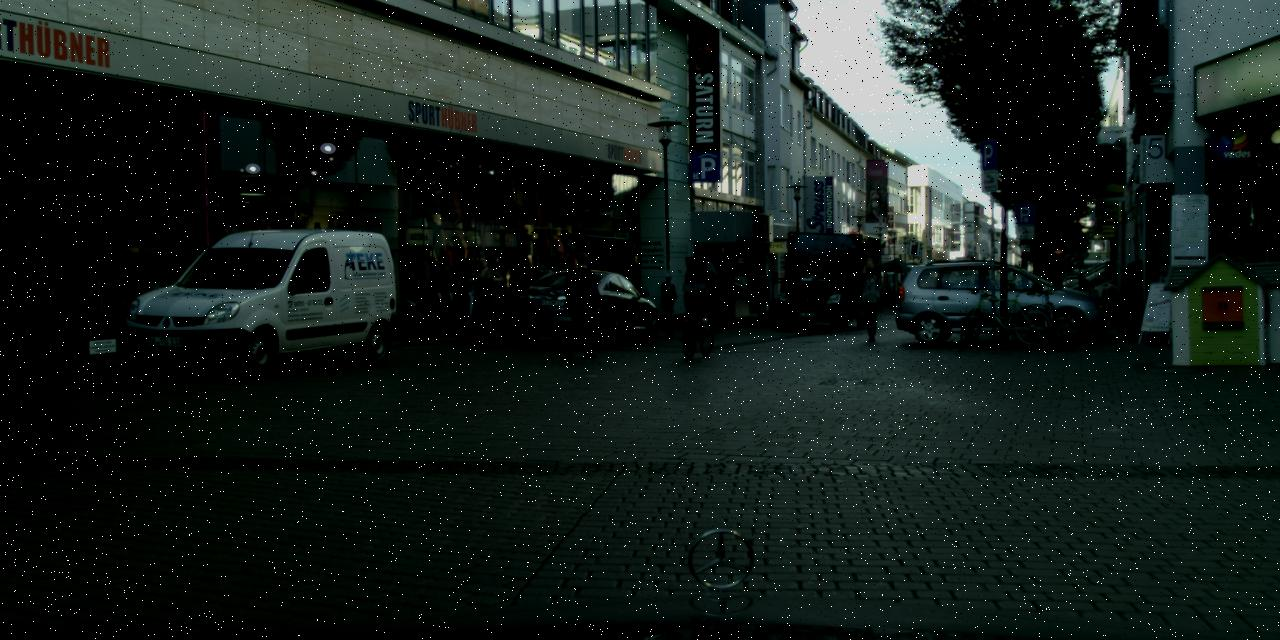ped: (559, 251, 602, 356), (680, 245, 716, 336), (853, 257, 887, 340), (469, 256, 501, 336), (1032, 260, 1057, 322), (658, 274, 678, 324), (751, 272, 771, 320), (1076, 273, 1086, 301)
